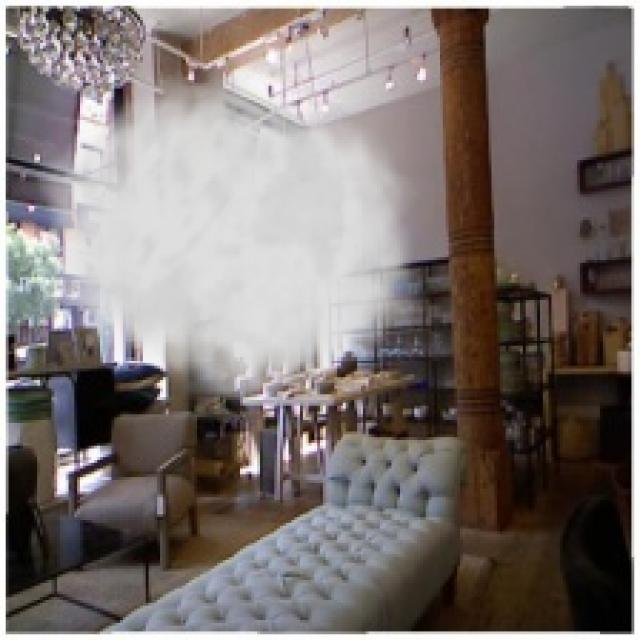smoke: (32, 54, 434, 414)
